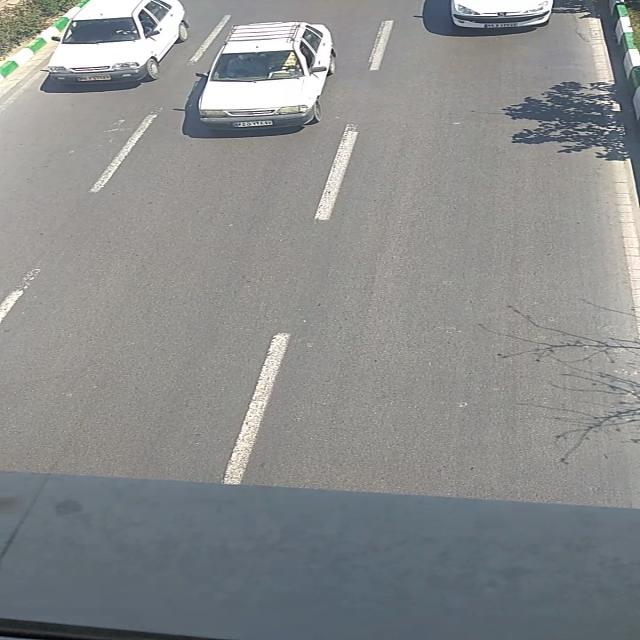car: (197, 22, 338, 130), (47, 0, 189, 84), (447, 1, 556, 28)
